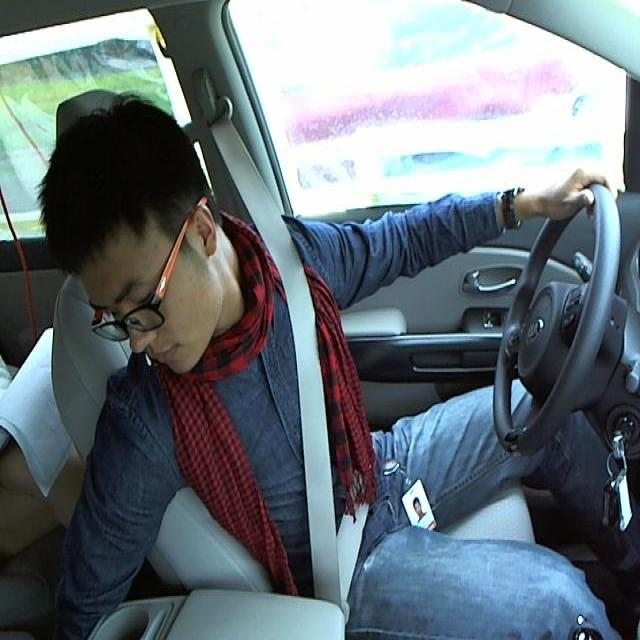seatbelt: (247, 207, 378, 602)
